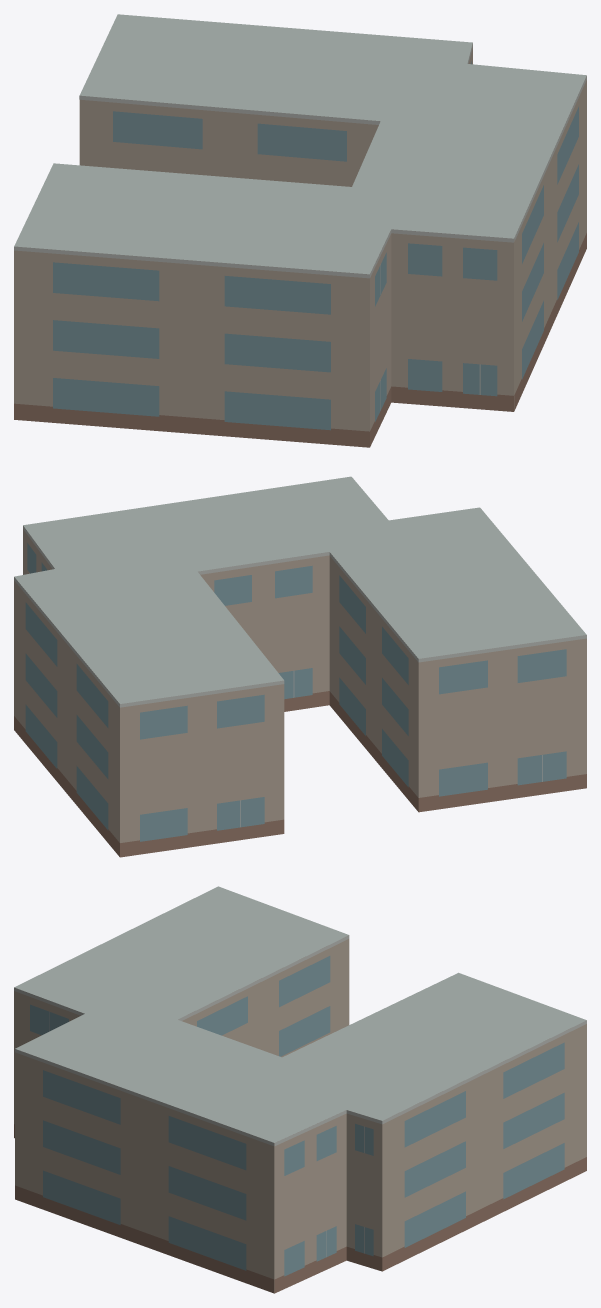
File: survey-upis-32890383.glb
The picture shows the model from 3 angles, top to bottom: view 1: azimuth 30°, elevation 25°; view 2: azimuth 150°, elevation 25°; view 3: azimuth 270°, elevation 25°; orthographic projection. The views are drawn at different scales.
Parts seen in each view (by area): view 1: survey-upis-32890383.tmp; view 2: survey-upis-32890383.tmp; view 3: survey-upis-32890383.tmp.
Boxes of the visible parts, left/top/right/bottom form: survey-upis-32890383.tmp: left=14, top=14, right=586, bottom=447; survey-upis-32890383.tmp: left=14, top=476, right=586, bottom=857; survey-upis-32890383.tmp: left=14, top=886, right=586, bottom=1293.
Bounding box in the file's own units: 38.38 × 10.5 × 36.2.
